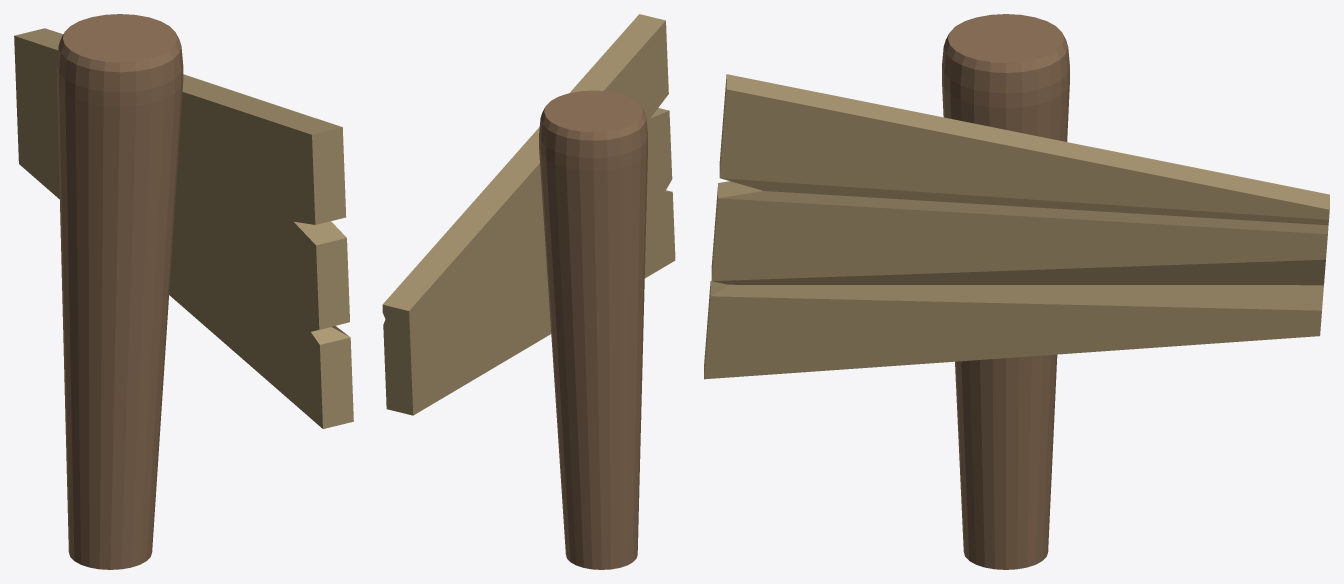
The model's file is Sign.fbx.
The picture shows the model from 3 angles, left to right: view 1: azimuth 30°, elevation 25°; view 2: azimuth 150°, elevation 25°; view 3: azimuth 270°, elevation 25°; orthographic projection. The views are drawn at different scales.
Visible parts, largest first — view 1: Cylinder; view 2: Cylinder; view 3: Cylinder.
Part boxes in pixels (x1=…): Cylinder: x1=14, y1=14, x2=353, y2=569; Cylinder: x1=382, y1=14, x2=675, y2=569; Cylinder: x1=704, y1=14, x2=1329, y2=569.
Size of the model in its own units: 92.49 by 324 by 354.
